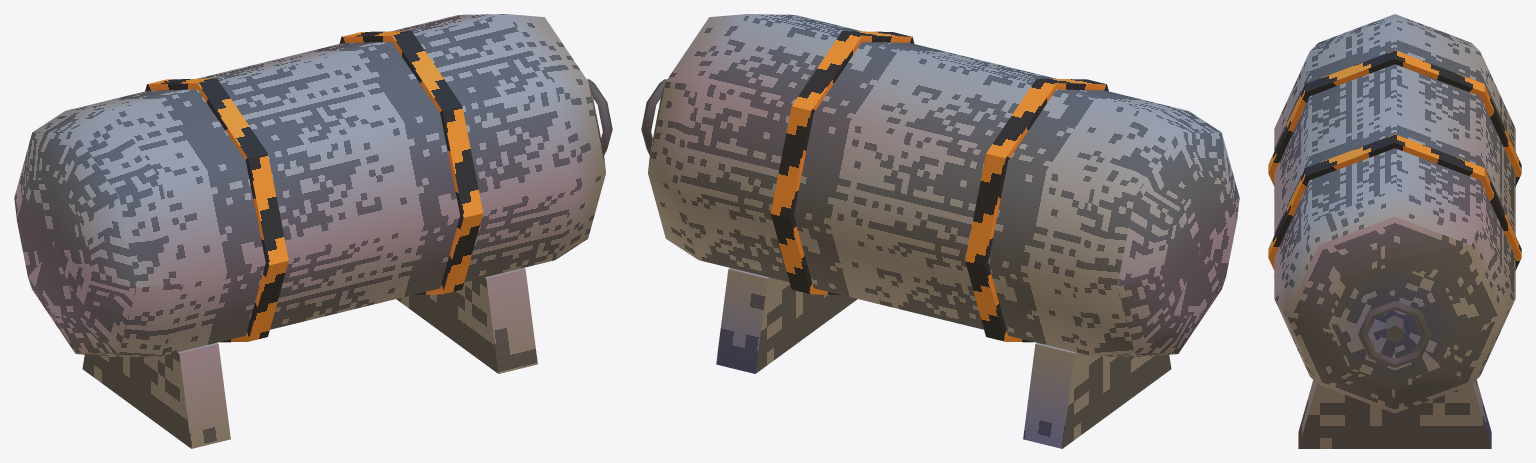
The model's file is tech.tank__horizontal.glb.
3 views of the same model, side by side, from view 1: azimuth 30°, elevation 25°; view 2: azimuth 150°, elevation 25°; view 3: azimuth 270°, elevation 25° (orthographic). The views are drawn at different scales.
Visible parts, largest first — view 1: kit_body, kit_saddles, kit_bands, kit_wheel; view 2: kit_body, kit_saddles, kit_bands, kit_wheel; view 3: kit_body, kit_saddles, kit_bands, kit_wheel, kit_stem.
Part boxes in pixels (x1,y1,x2,y2): kit_body: (14, 14, 605, 357); kit_saddles: (82, 268, 537, 448); kit_bands: (145, 31, 483, 342); kit_wheel: (587, 79, 612, 155); kit_body: (648, 14, 1239, 357); kit_saddles: (716, 268, 1171, 448); kit_bands: (770, 31, 1108, 342); kit_wheel: (641, 79, 666, 155); kit_body: (1274, 14, 1515, 413); kit_saddles: (1298, 380, 1491, 448); kit_bands: (1268, 50, 1521, 270); kit_wheel: (1358, 301, 1431, 367); kit_stem: (1386, 315, 1403, 343).
Bounding box in the file's own units: 2.74 × 1.51 × 1.26.
4 materials, 4 textured.
